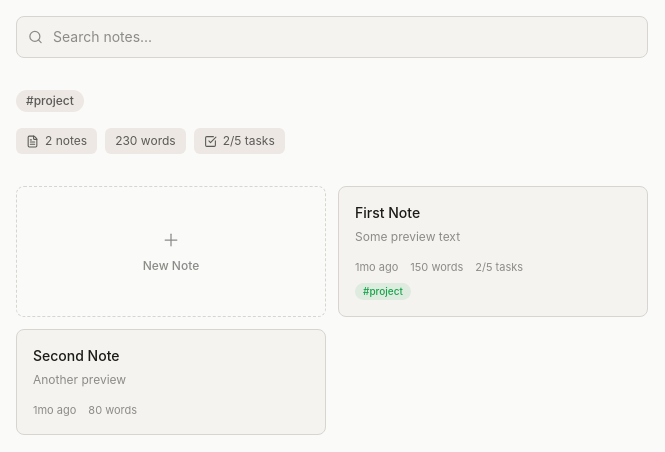
HomePage › filters notes client-side by preview
The image size is (665, 452).
Type "Another" into the field with placeholder "Search notes..." at coordinates (332, 37), box [16,16,648,58]
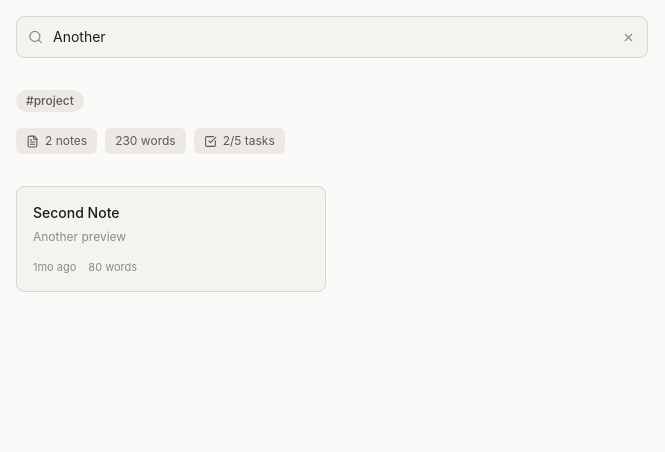
Expected: the text "Second Note" is shown, [33,204,120,221]
Result: the button "First Note" is gone
